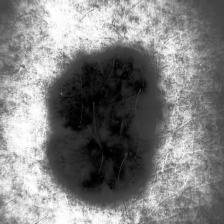Benign Marking or Mole: (48, 51, 154, 200)
